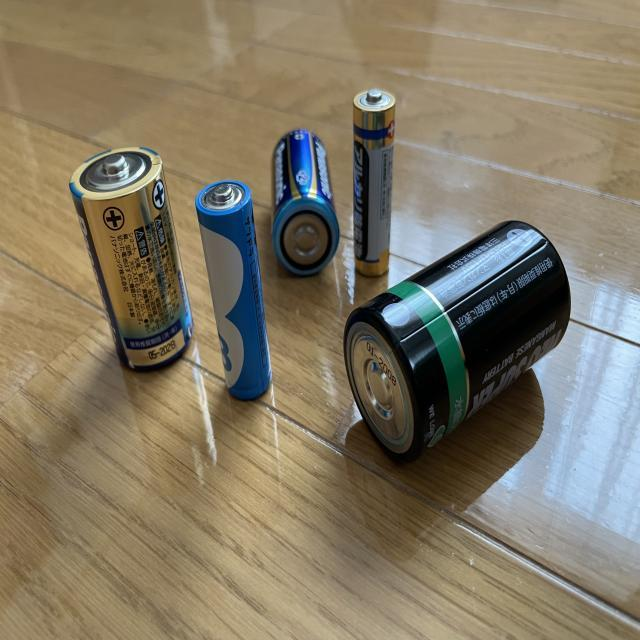hazardous waste: (336, 218, 578, 468), (64, 136, 204, 385), (188, 170, 288, 413), (268, 120, 354, 282), (344, 82, 403, 290)
